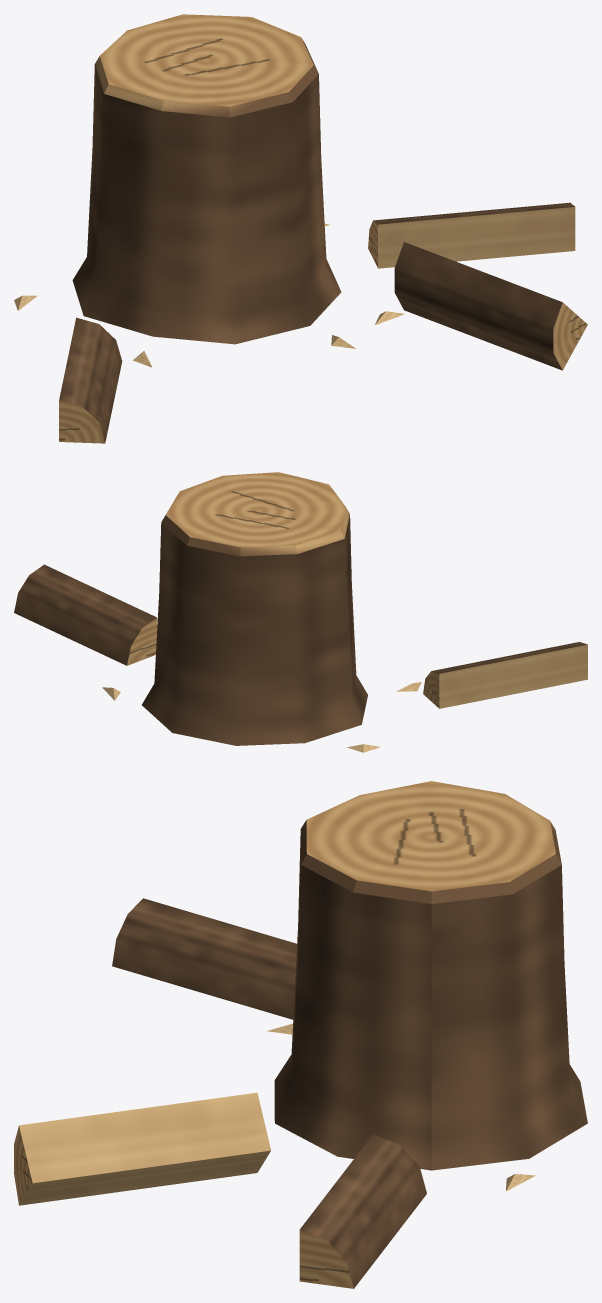
File: chopping_block.glb
3 renders of one model, top to bottom at view 1: azimuth 30°, elevation 25°; view 2: azimuth 150°, elevation 25°; view 3: azimuth 270°, elevation 25°, orthographic. The views are drawn at different scales.
Visible parts, largest first — view 1: CHOPPING_BLOCK; view 2: CHOPPING_BLOCK; view 3: CHOPPING_BLOCK.
Part boxes in pixels (<box>): CHOPPING_BLOCK: <box>14,14,587,443</box>; CHOPPING_BLOCK: <box>14,472,587,752</box>; CHOPPING_BLOCK: <box>14,781,587,1288</box>.
Size of the model in its own units: 1.16 by 0.42 by 0.824.
Materials: 1 (1 with a texture image).
